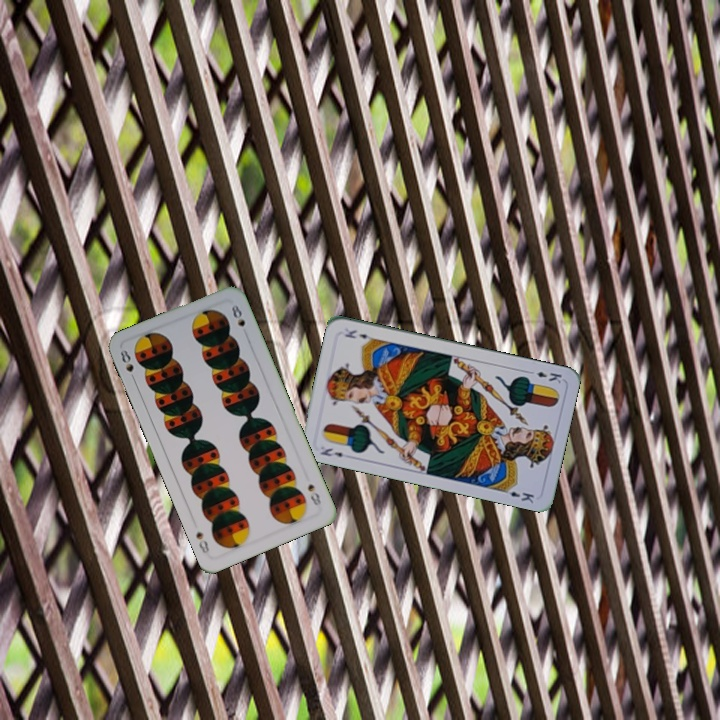EK: (524, 367, 564, 386), (317, 444, 346, 460)
S8: (116, 345, 139, 385), (304, 480, 324, 508)
